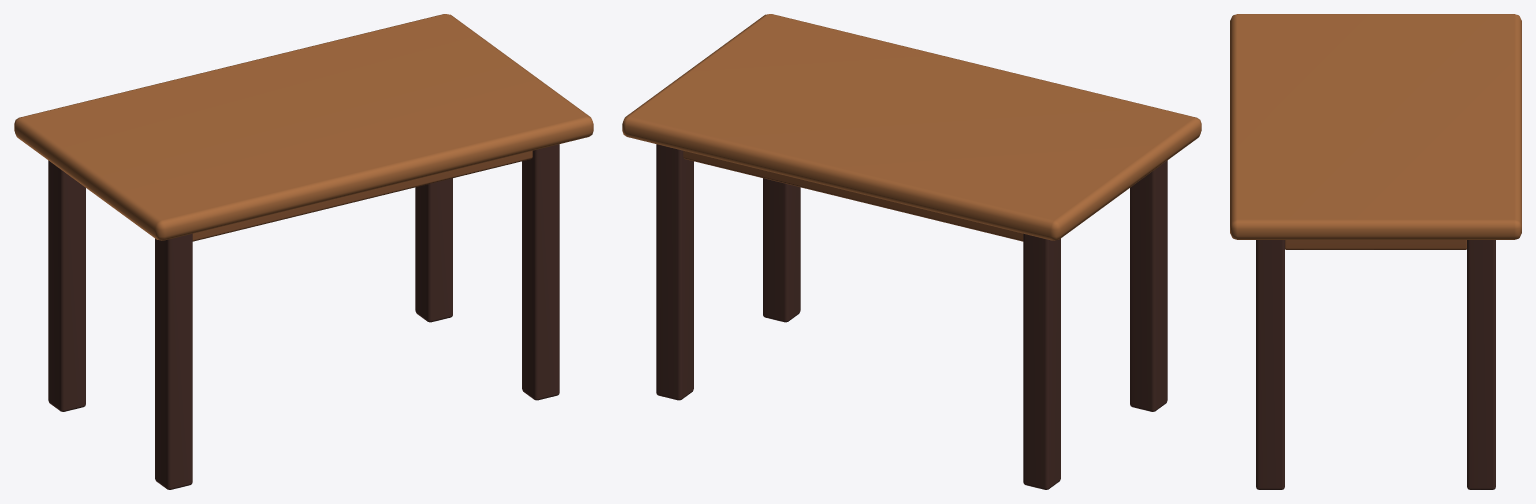
The model's file is kitchen-dining-table.glb.
3 views of the same model, side by side, from view 1: azimuth 30°, elevation 25°; view 2: azimuth 150°, elevation 25°; view 3: azimuth 270°, elevation 25° (orthographic).
Visible parts, largest first — view 1: kitchen_dining_table_placement_Mesh; view 2: kitchen_dining_table_placement_Mesh; view 3: kitchen_dining_table_placement_Mesh.
Part boxes in pixels (box(x1,y1,x2,y2)): kitchen_dining_table_placement_Mesh: box(14, 14, 593, 489); kitchen_dining_table_placement_Mesh: box(622, 14, 1201, 489); kitchen_dining_table_placement_Mesh: box(1230, 14, 1521, 489).
Size of the model in its own units: 1.2 by 0.74 by 0.7.
